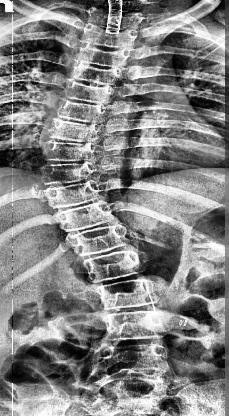Vertebrae: (96, 345, 174, 373), (102, 307, 168, 339), (68, 223, 130, 257), (84, 249, 146, 281), (54, 200, 116, 232), (96, 280, 162, 308), (45, 180, 99, 209), (84, 25, 144, 51), (78, 42, 128, 72), (56, 98, 108, 126), (46, 138, 98, 164), (64, 78, 116, 104), (71, 62, 123, 88), (52, 118, 102, 144), (43, 163, 95, 179)
